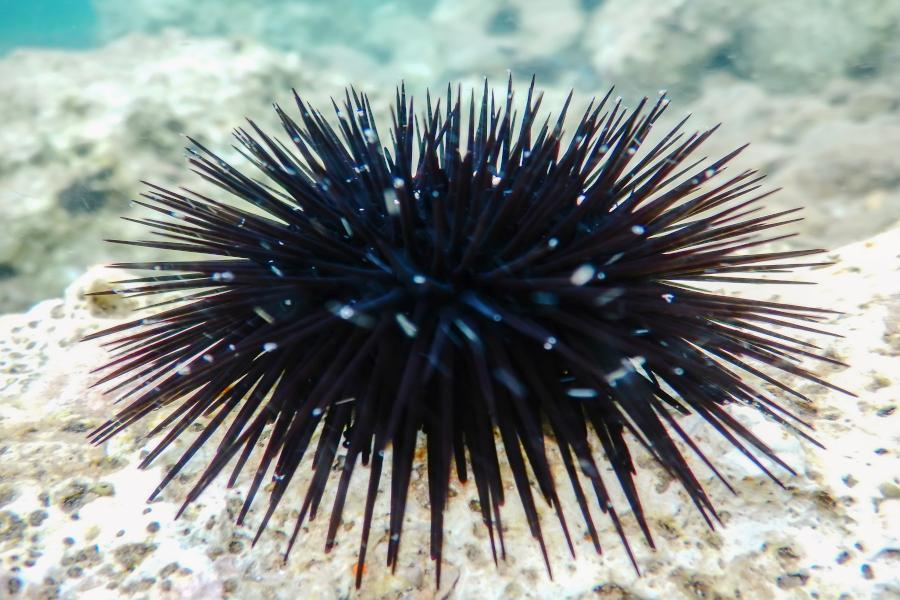urchin: (78, 69, 858, 580)
